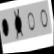correct: (1, 18, 10, 37)
not correct: (12, 7, 23, 40)
